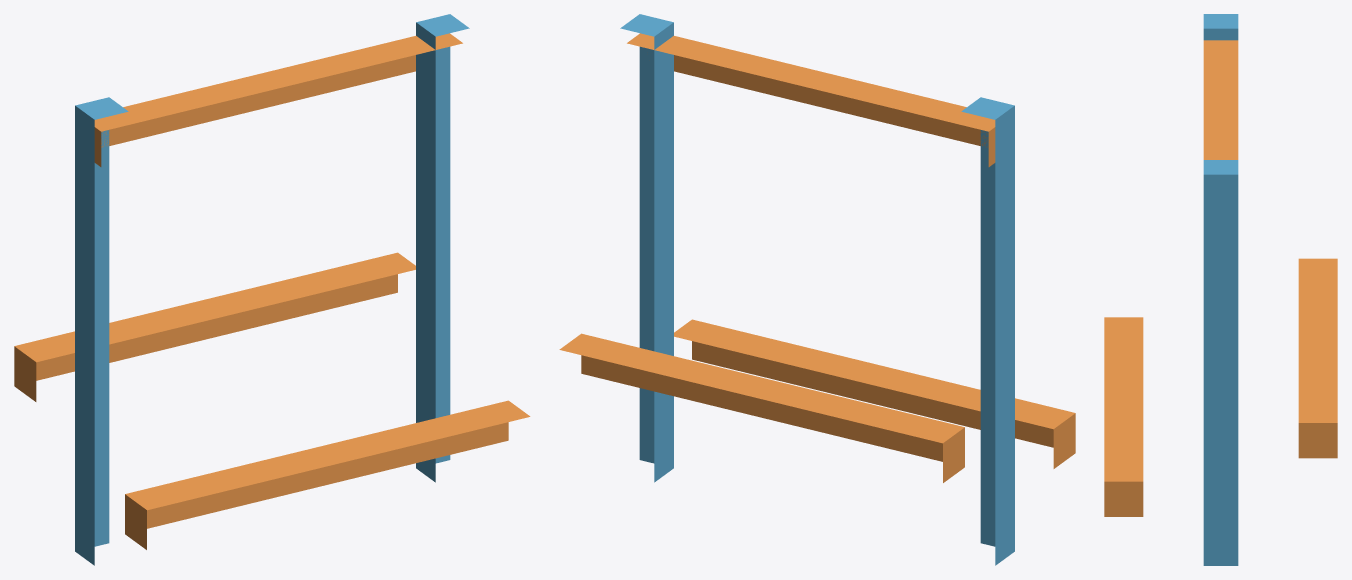
The model's file is fitness.glb.
3 renders of one model, left to right at view 1: azimuth 30°, elevation 25°; view 2: azimuth 150°, elevation 25°; view 3: azimuth 270°, elevation 25°, orthographic. The views are drawn at different scales.
Bounding box in the file's own units: 1.8 × 2 × 1.08.
